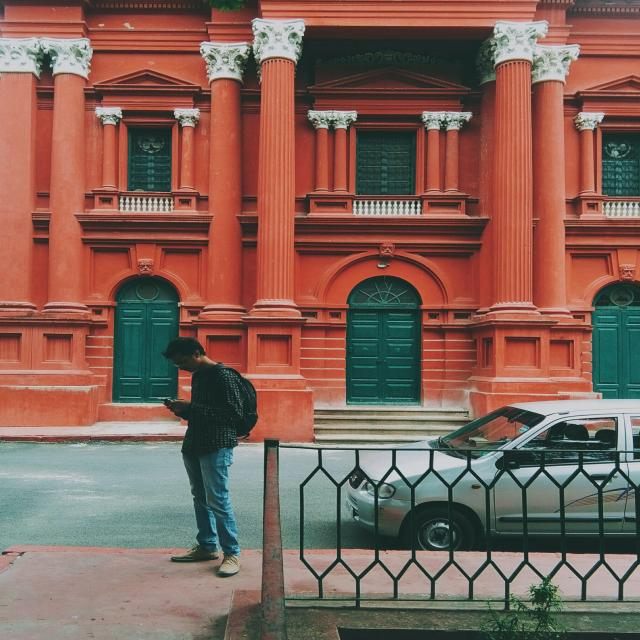adult: (157, 334, 250, 584)
